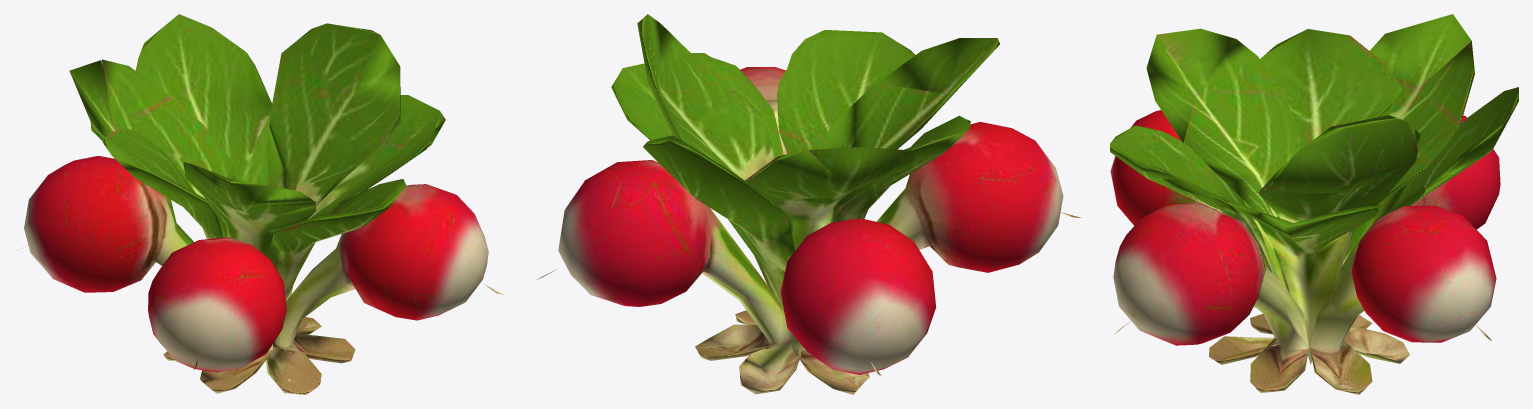
The model's file is crop-radish.glb.
3 renders of one model, left to right at view 1: azimuth 30°, elevation 25°; view 2: azimuth 150°, elevation 25°; view 3: azimuth 270°, elevation 25°, orthographic. The views are drawn at different scales.
Visible parts, largest first — view 1: plant, fruit; view 2: fruit, plant; view 3: plant, fruit.
Boxes of the visible parts, x1,y1,x2,y2 form: plant: (69, 14, 445, 300); fruit: (17, 156, 504, 394); fruit: (536, 67, 1080, 394); plant: (611, 14, 999, 346); plant: (1110, 14, 1518, 364); fruit: (1110, 110, 1500, 394).
Bounding box in the file's own units: 0.3051 × 0.25 × 0.304.
1 material, 1 textured.
